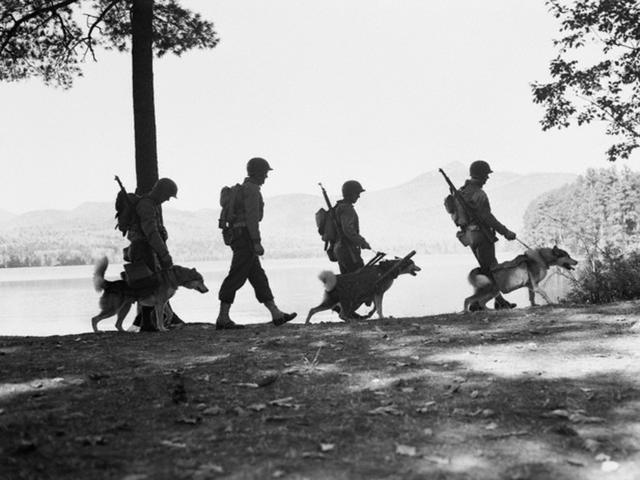dog: (79, 258, 217, 316), (302, 262, 438, 318), (471, 245, 593, 299)
